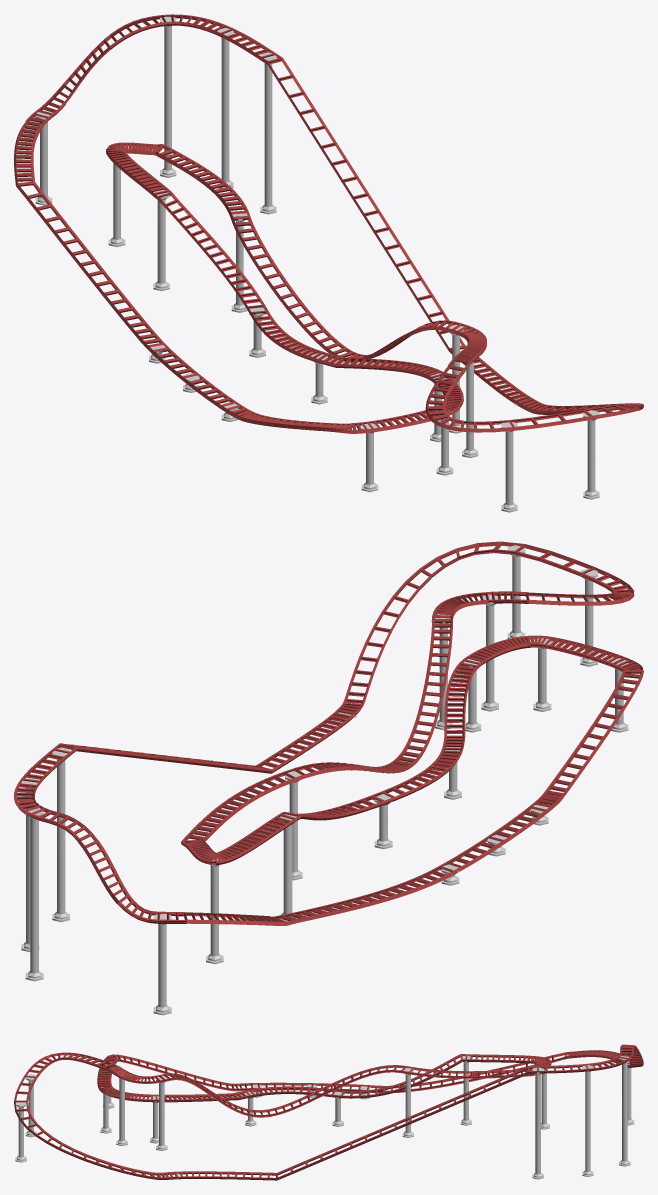
File: rollercoaster_ash.FBX
3 renders of one model, top to bottom at view 1: azimuth 30°, elevation 25°; view 2: azimuth 150°, elevation 25°; view 3: azimuth 270°, elevation 25°, orthographic. The views are drawn at different scales.
Parts seen in each view (by area): view 1: Loft002, polySurface1; view 2: Loft002, polySurface1; view 3: Loft002, polySurface1.
Boxes of the visible parts, x1,y1,x2,y2 form: Loft002: [14, 14, 643, 433]; polySurface1: [35, 16, 599, 512]; Loft002: [14, 541, 643, 925]; polySurface1: [21, 545, 628, 1015]; Loft002: [14, 1044, 643, 1180]; polySurface1: [15, 1054, 634, 1179].
Size of the model in its own units: 5798 by 3138 by 16361.
